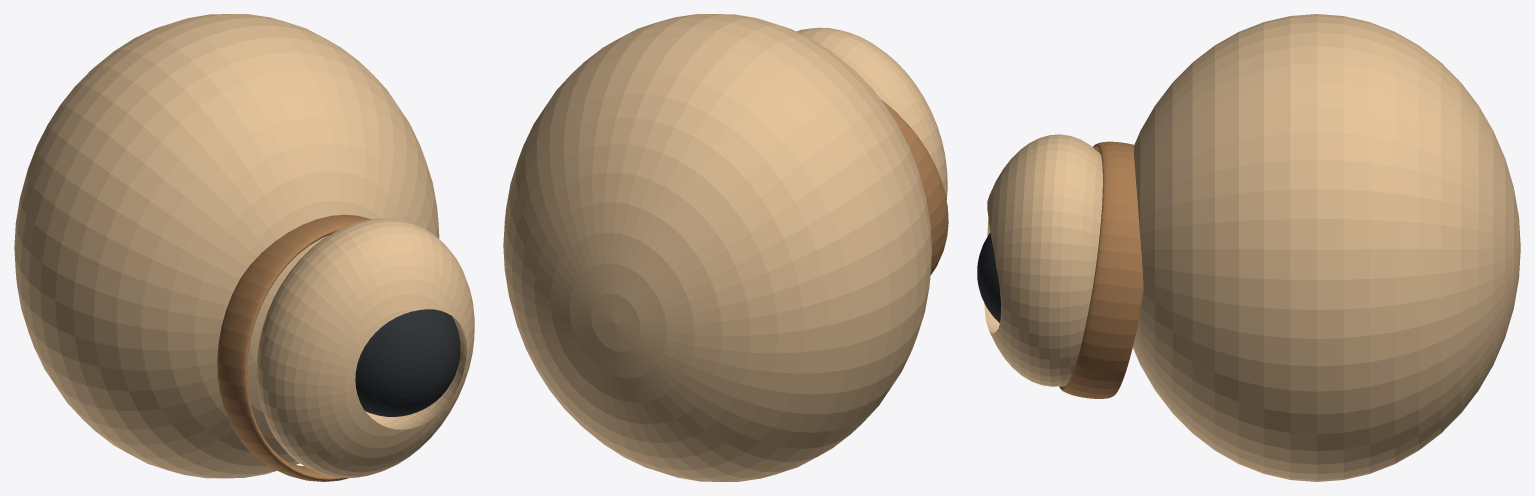
File: old_sack.obj
The picture shows the model from 3 angles, left to right: view 1: azimuth 30°, elevation 25°; view 2: azimuth 150°, elevation 25°; view 3: azimuth 270°, elevation 25°; orthographic projection.
Visible parts, largest first — view 1: group_0_14860437, group_0_11107152, group_0_2829873; view 2: group_0_14860437, group_0_11107152; view 3: group_0_14860437, group_0_11107152, group_0_2829873.
Part boxes in pixels (bbox=[...]): group_0_14860437: bbox=[14, 14, 474, 478]; group_0_11107152: bbox=[217, 214, 370, 481]; group_0_2829873: bbox=[355, 309, 460, 416]; group_0_14860437: bbox=[503, 14, 947, 481]; group_0_11107152: bbox=[881, 99, 948, 274]; group_0_14860437: bbox=[984, 14, 1520, 481]; group_0_11107152: bbox=[1059, 141, 1143, 398]; group_0_2829873: bbox=[977, 232, 1000, 322].
Size of the model in its own units: 39 by 43.11 by 49.25.
